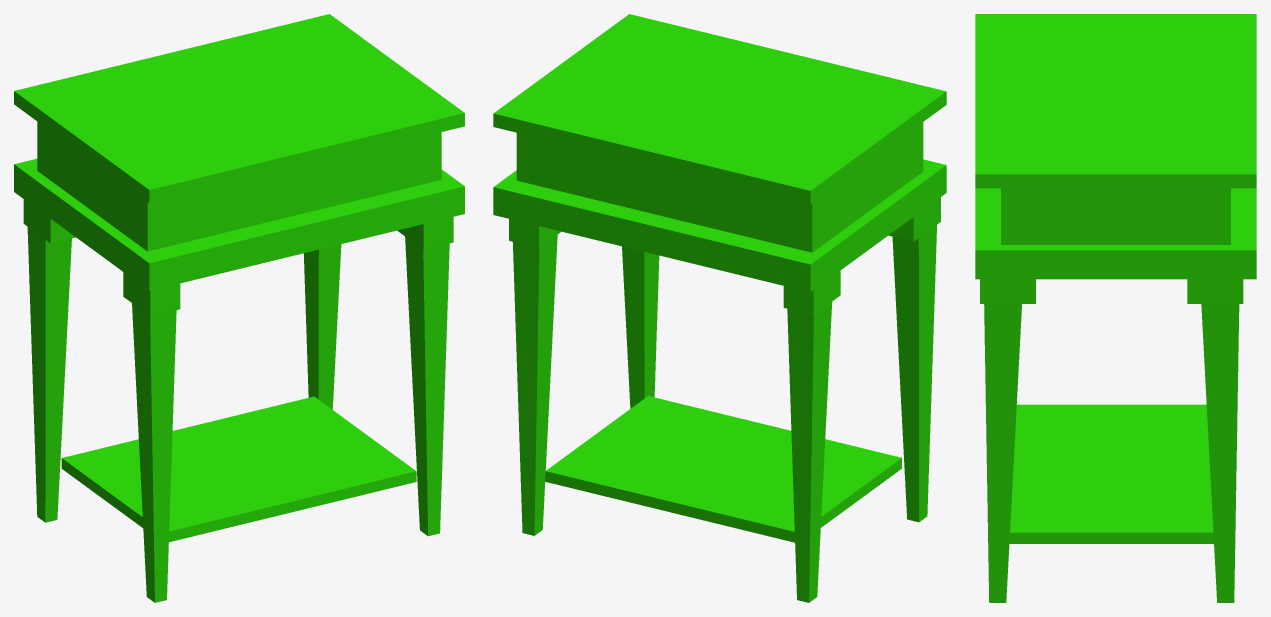
File: Cupboard_11_Lod0.fbx
3 renders of one model, left to right at view 1: azimuth 30°, elevation 25°; view 2: azimuth 150°, elevation 25°; view 3: azimuth 270°, elevation 25°, orthographic. The views are drawn at different scales.
Parts seen in each view (by area): view 1: Cupboard_11_Lod0; view 2: Cupboard_11_Lod0; view 3: Cupboard_11_Lod0.
Part boxes in pixels (x1,y1,x2,y2): Cupboard_11_Lod0: (14,14,464,602); Cupboard_11_Lod0: (493,14,946,602); Cupboard_11_Lod0: (975,14,1256,602).
Bounding box in the file's own units: 66.32 × 84.51 × 49.24.
